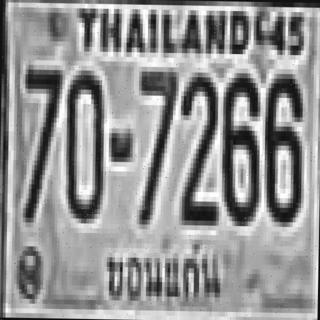N00: (62, 65, 102, 219)
N02: (178, 70, 217, 218)
N06: (218, 68, 258, 221), (261, 68, 300, 222)
N07: (135, 67, 175, 225), (20, 64, 60, 218)
P18: (100, 235, 224, 312)
